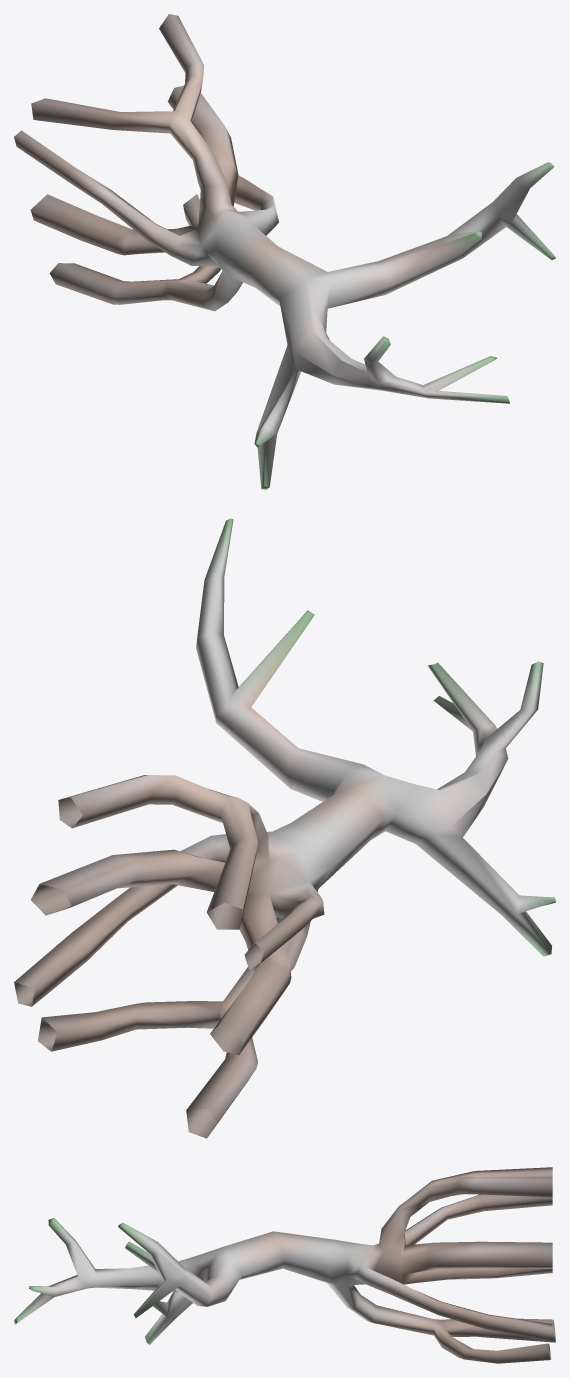
The model's file is Mangrove_B.glb.
3 views of the same model, one above another, from view 1: azimuth 30°, elevation 25°; view 2: azimuth 150°, elevation 25°; view 3: azimuth 270°, elevation 25° (orthographic). The views are drawn at different scales.
Visible parts, largest first — view 1: MeshNode_0; view 2: MeshNode_0; view 3: MeshNode_0.
Part boxes in pixels (x1,y1,x2,y2): MeshNode_0: (14, 14, 555, 489); MeshNode_0: (14, 518, 555, 1138); MeshNode_0: (14, 1167, 555, 1363).
Bounding box in the file's own units: 30.98 × 27.48 × 58.08.
